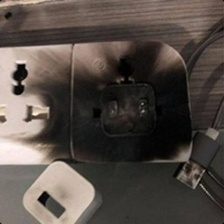three_eye_plug: (0, 32, 198, 169)
